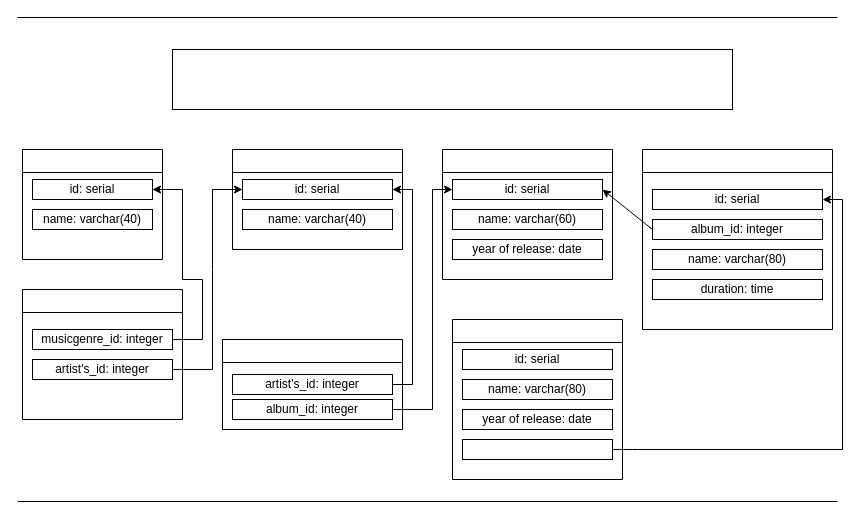
This 868x519 diagram has some shape labels left out. Each missing label, with the box of its shape:
Album: (442, 148, 612, 280)
AlbumArtist's: (222, 338, 402, 430)
Artist 's: (232, 148, 402, 250)
Collection: (452, 318, 622, 480)
GenreArtist's: (22, 288, 182, 420)
MusicGenre: (22, 148, 162, 260)
MusicTrack: (642, 148, 832, 330)
musictrack_id: integer: (462, 438, 612, 460)
Схема музыкального сайта: (172, 48, 732, 110)
